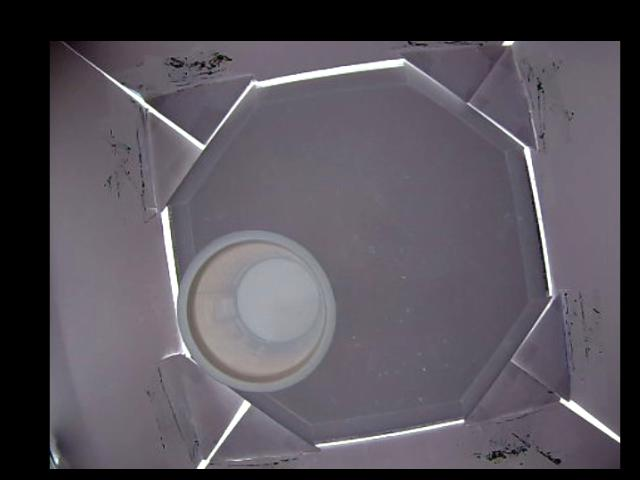Cup: (176, 229, 338, 391)
